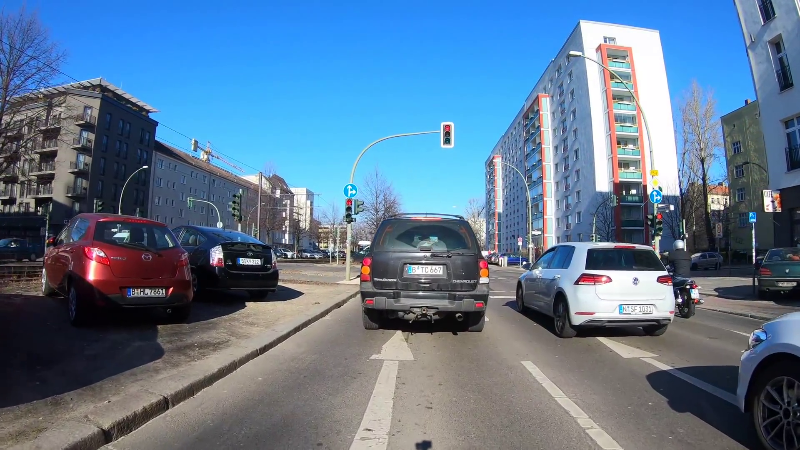Plate: (125, 288, 165, 298), (619, 303, 653, 314), (407, 265, 443, 275), (236, 256, 261, 265), (775, 280, 798, 286)
